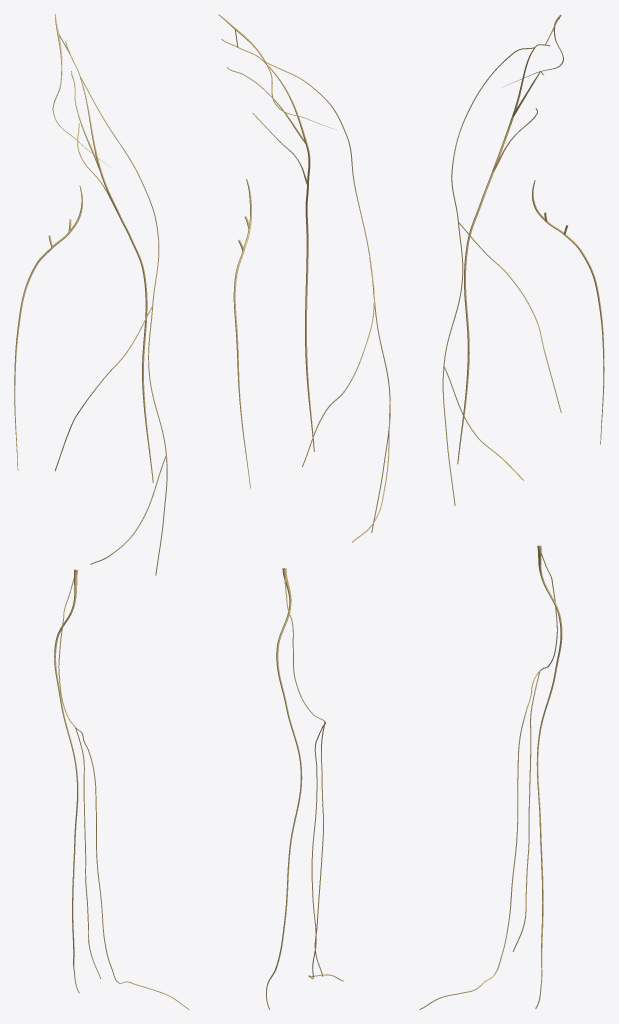
File: lower-right.glb
3 views of the same model, side by side, from view 1: azimuth 90°, elevation 25°; view 2: azimuth 150°, elevation 25°; view 3: azimuth 270°, elevation 25° (orthographic). The views are drawn at different scales.
Visible parts, largest first — view 1: zanatomy_lateral-femoral-cutaneous-nerve-r, zanatomy_femoral-nerve-r, zanatomy_tibial-nerve-r, zanatomy_posterior-femoral-cutaneous-nerve-r, zanatomy_deep-fibular-nerve-r; view 2: zanatomy_femoral-nerve-r, zanatomy_lateral-femoral-cutaneous-nerve-r, zanatomy_tibial-nerve-r, zanatomy_posterior-femoral-cutaneous-nerve-r, zanatomy_deep-fibular-nerve-r, zanatomy_superficial-fibular-nerve-r; view 3: zanatomy_lateral-femoral-cutaneous-nerve-r, zanatomy_femoral-nerve-r, zanatomy_tibial-nerve-r, zanatomy_posterior-femoral-cutaneous-nerve-r, zanatomy_deep-fibular-nerve-r, zanatomy_superficial-fibular-nerve-r.
Boxes of the visible parts, x1,y1,x2,y2 form: zanatomy_lateral-femoral-cutaneous-nerve-r: [54, 76, 167, 575]; zanatomy_femoral-nerve-r: [65, 41, 153, 482]; zanatomy_tibial-nerve-r: [54, 569, 79, 993]; zanatomy_posterior-femoral-cutaneous-nerve-r: [14, 185, 82, 470]; zanatomy_deep-fibular-nerve-r: [75, 727, 189, 1009]; zanatomy_femoral-nerve-r: [221, 39, 314, 451]; zanatomy_lateral-femoral-cutaneous-nerve-r: [264, 61, 390, 542]; zanatomy_tibial-nerve-r: [266, 568, 302, 1009]; zanatomy_posterior-femoral-cutaneous-nerve-r: [233, 179, 251, 488]; zanatomy_deep-fibular-nerve-r: [308, 722, 343, 981]; zanatomy_superficial-fibular-nerve-r: [314, 722, 325, 976]; zanatomy_lateral-femoral-cutaneous-nerve-r: [442, 47, 561, 505]; zanatomy_femoral-nerve-r: [457, 44, 549, 464]; zanatomy_tibial-nerve-r: [535, 545, 562, 1008]; zanatomy_posterior-femoral-cutaneous-nerve-r: [532, 180, 604, 444]; zanatomy_deep-fibular-nerve-r: [419, 671, 539, 1009]; zanatomy_superficial-fibular-nerve-r: [512, 671, 540, 951].
Size of the model in its own units: 0.147 by 1.08 by 0.1772.
